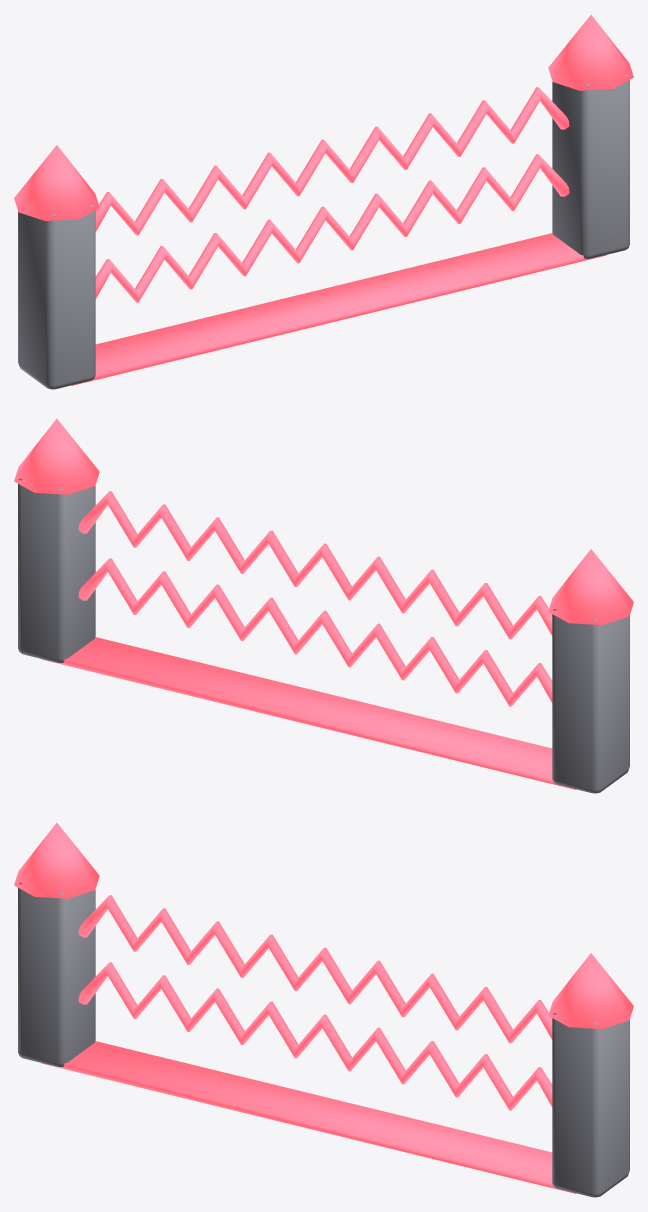
The model's file is red_electric_barrier.glb.
3 views of the same model, one above another, from view 1: azimuth 30°, elevation 25°; view 2: azimuth 150°, elevation 25°; view 3: azimuth 330°, elevation 25° (orthographic).
Visible parts, largest first — view 1: red_electric_barrier_Mesh; view 2: red_electric_barrier_Mesh; view 3: red_electric_barrier_Mesh.
Part boxes in pixels (<box>): red_electric_barrier_Mesh: <box>14,15,633,389</box>; red_electric_barrier_Mesh: <box>14,419,633,793</box>; red_electric_barrier_Mesh: <box>14,823,633,1197</box>.
Size of the model in its own units: 2.86 by 1.03 by 0.36.
